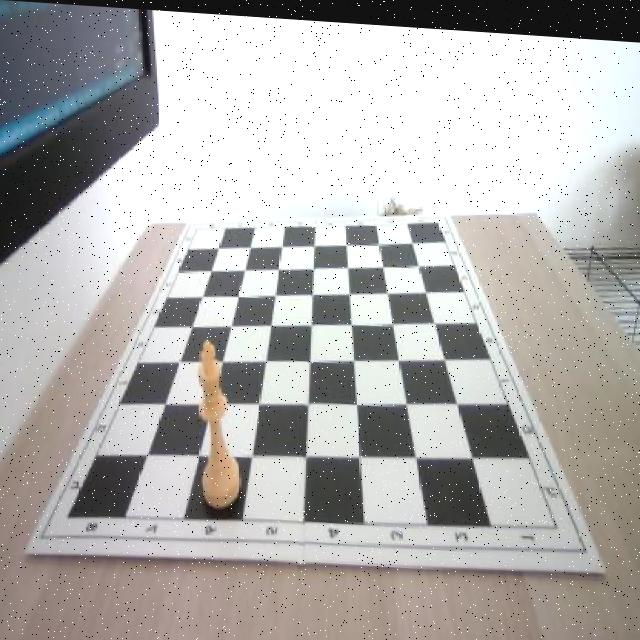white-bishop: (198, 335, 242, 506)
